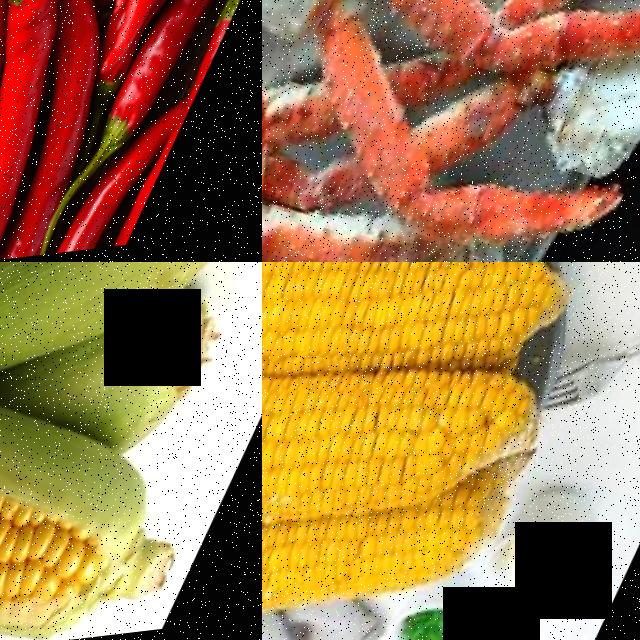chilli: (97, 0, 247, 180), (86, 0, 262, 85)
corn: (288, 326, 560, 585), (0, 349, 153, 640), (306, 262, 561, 428), (262, 491, 485, 640), (262, 305, 350, 576), (262, 262, 350, 425)
crab: (262, 0, 640, 262)
